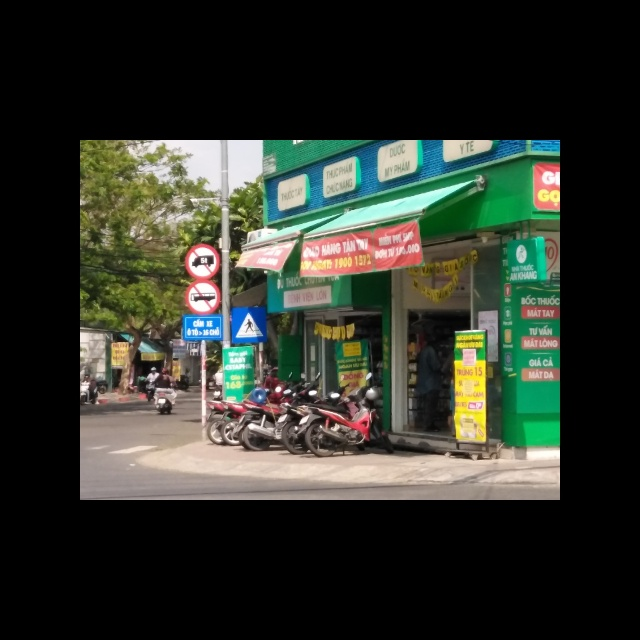Cấm xe tải: (183, 243, 220, 280)
Cấm xe xe khách: (186, 280, 223, 316)
Đường dành cho người đi bộ: (230, 307, 267, 343)
